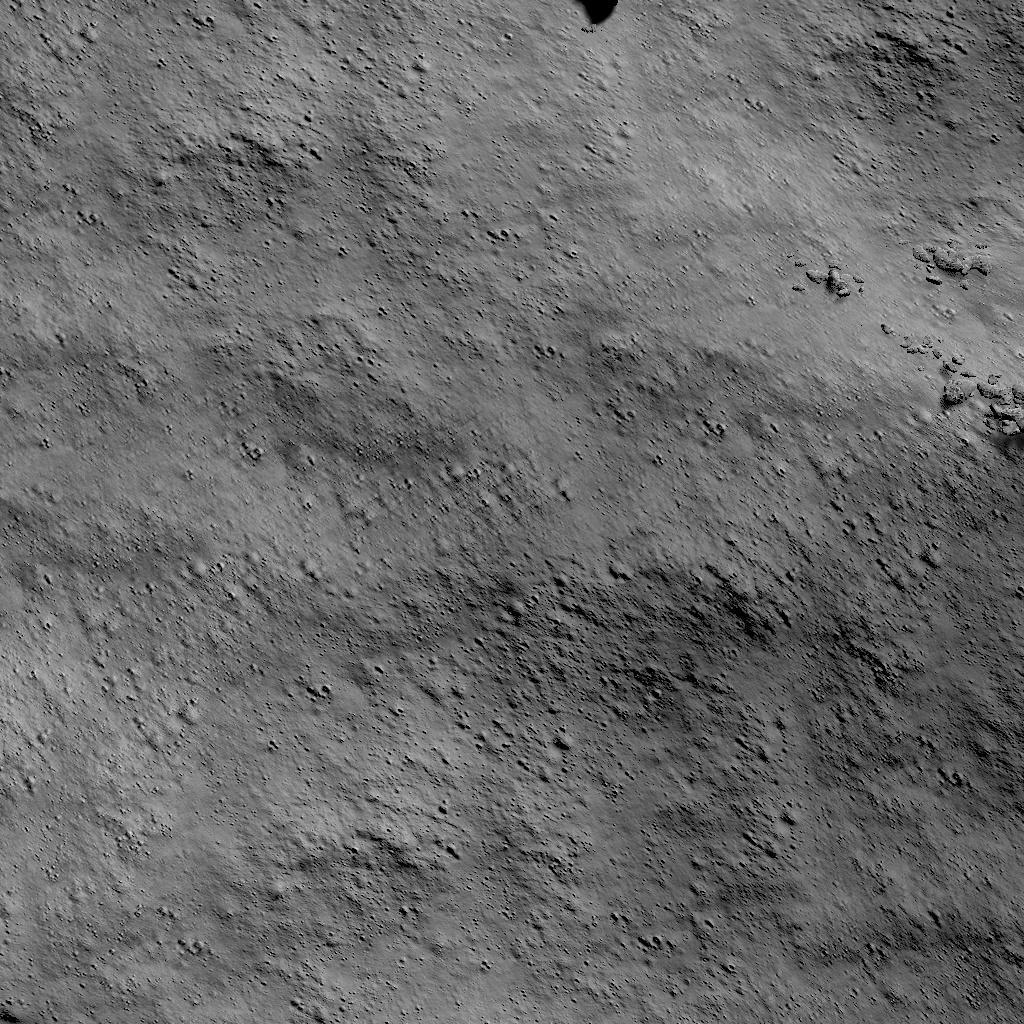Plan surface: (2, 479, 1024, 1024), (5, 2, 529, 436), (653, 2, 1024, 232)
